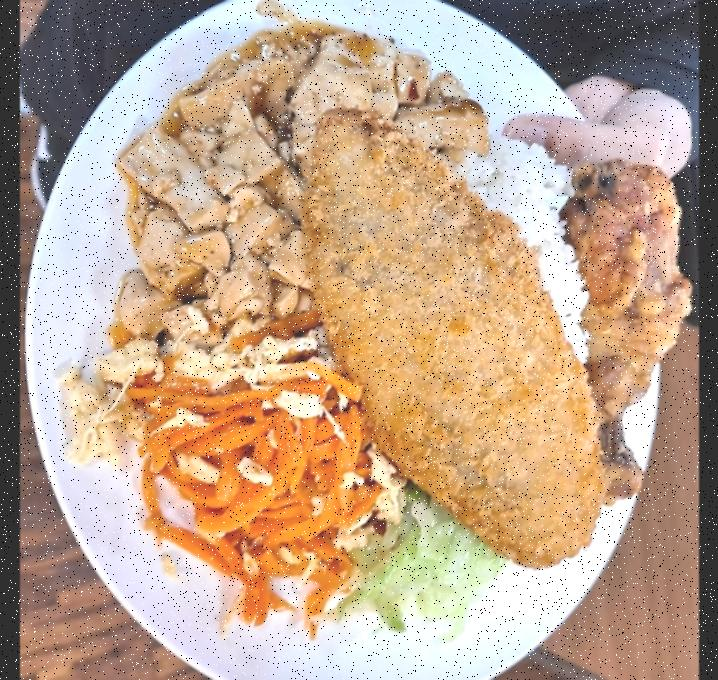fried cod steak: (310, 108, 602, 574)
plate: (25, 0, 673, 680)
side dish: (116, 29, 486, 335), (58, 330, 402, 631), (340, 490, 512, 635)
small fried chicken leg: (560, 158, 688, 502)
white rice: (435, 134, 588, 393)
